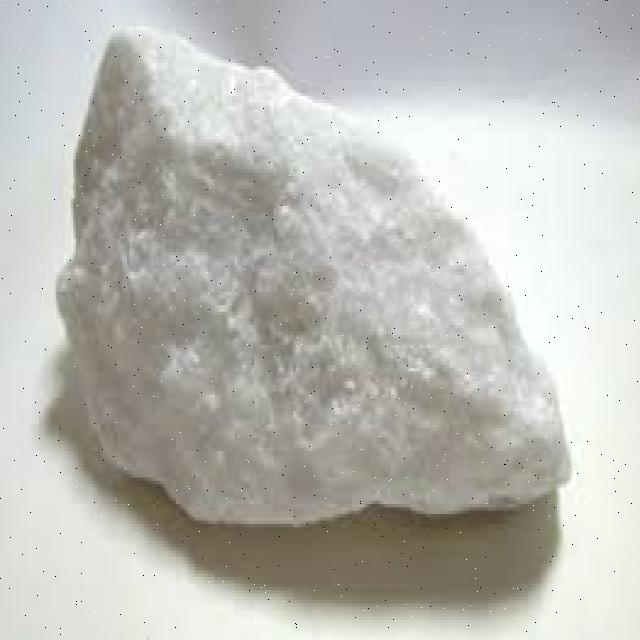Metamorphic: (49, 23, 579, 521)
